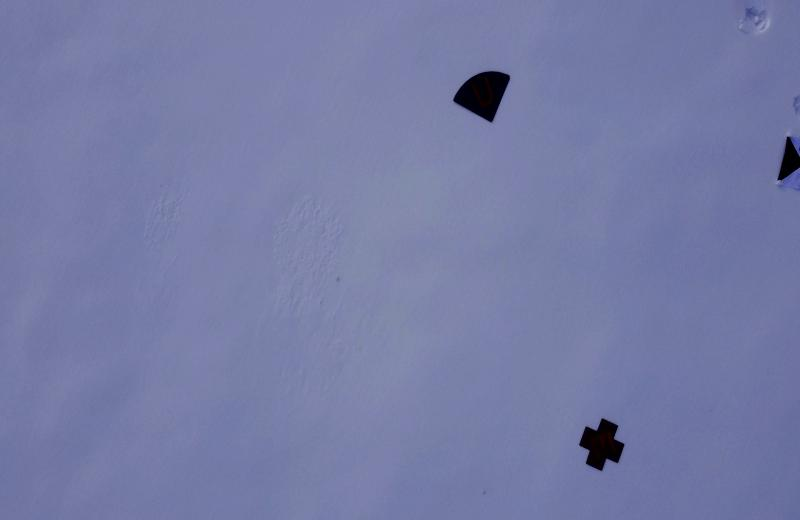Cross: (580, 417, 626, 472)
Quarter Circle: (455, 66, 512, 124)
